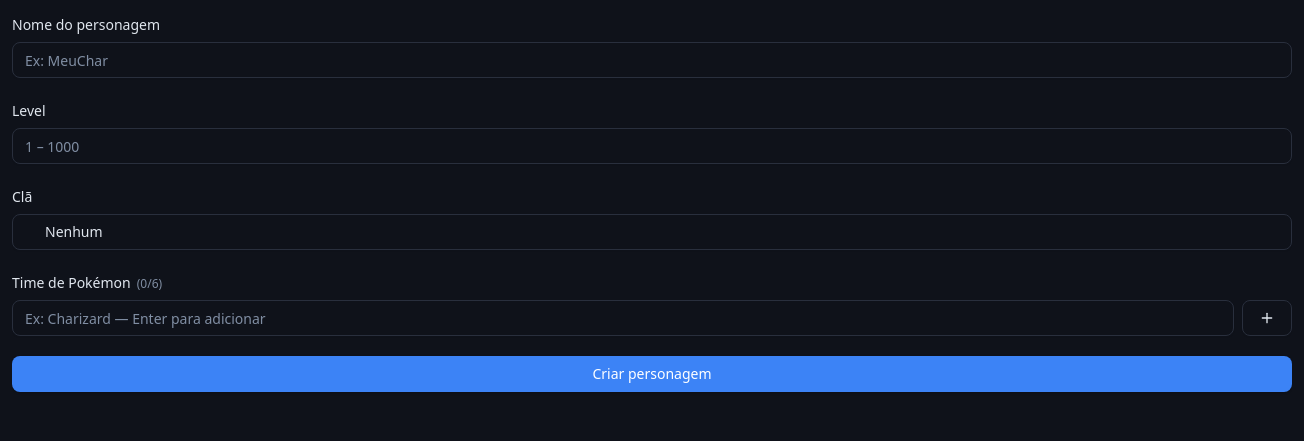
Test: CharacterForm (US02 — AC: Formulário com validação Zod) › Adição de pokémons (tags) › deve adicionar pokémon ao pressionar Enter
In the field with placeholder "Ex: Charizard — Enter para adicionar": (623, 318) [12, 300, 1234, 336], type "Pikachu"
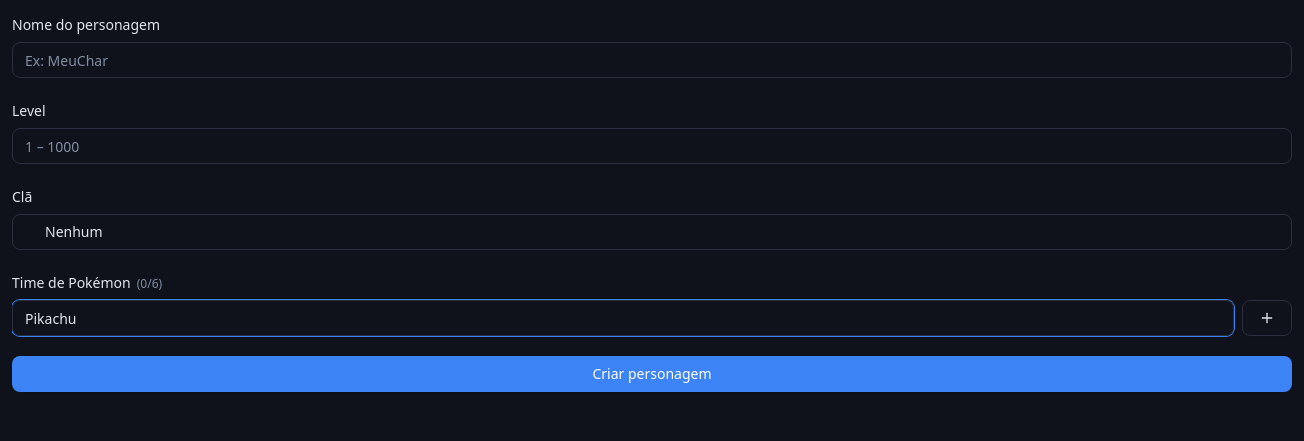
Press Enter
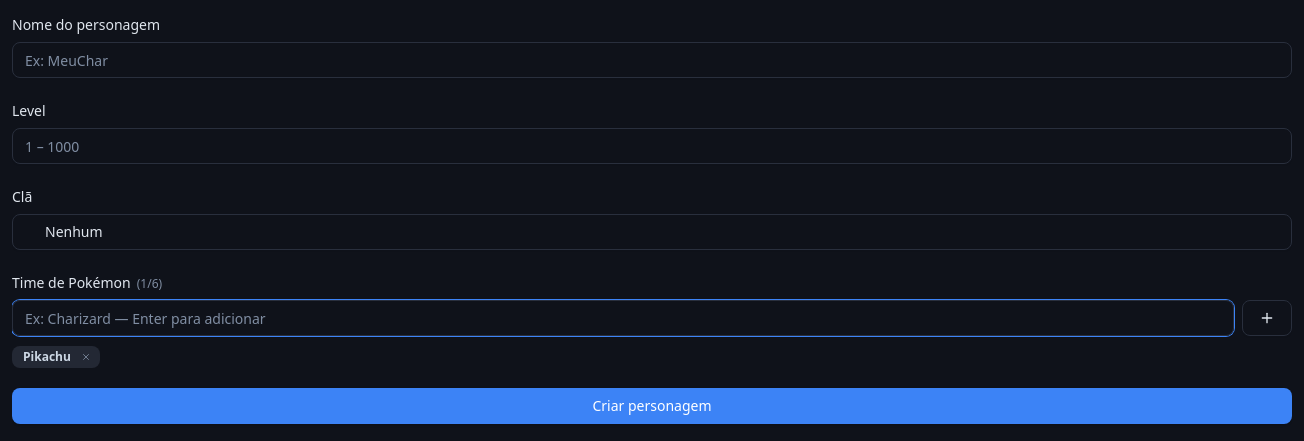
Now the text "Pikachu" is shown, box [12, 346, 100, 368]
